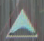Speed Breaker ahead: (4, 0, 41, 39)
